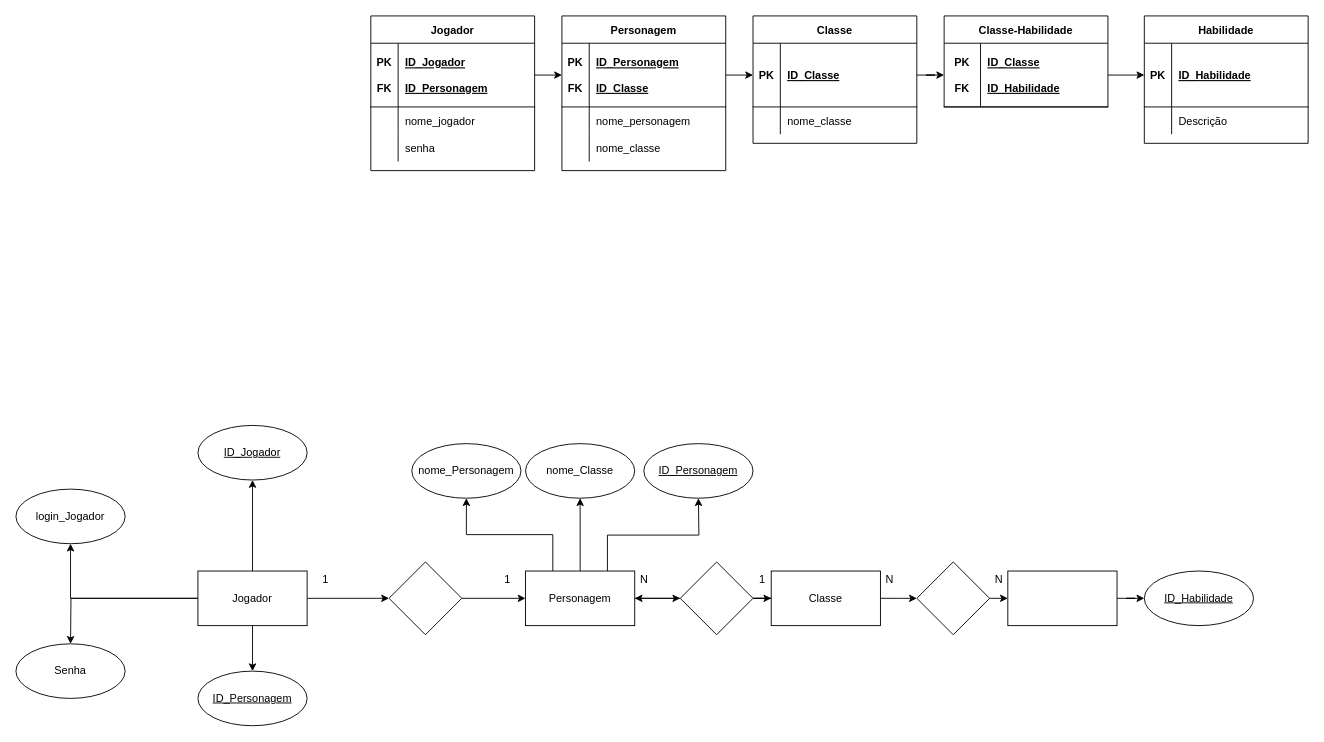
This 1324x742 diagram has some shape labels left out. Here are the shapes that lost their labels. From the top down, the centre of each, then its label:
At [425,598]: "Controla".
At [716,598]: "Pertence".
At [953,598]: "Possui".
At [1062,598]: "Habilidades".
